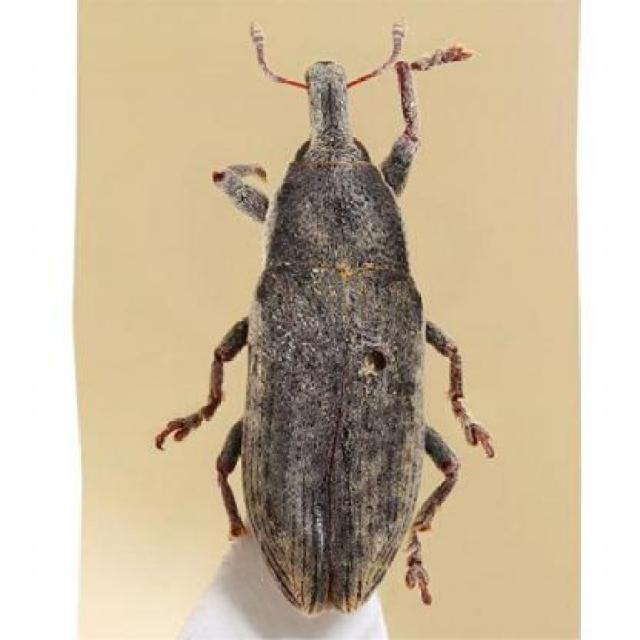rice-bug: (218, 51, 487, 620)
